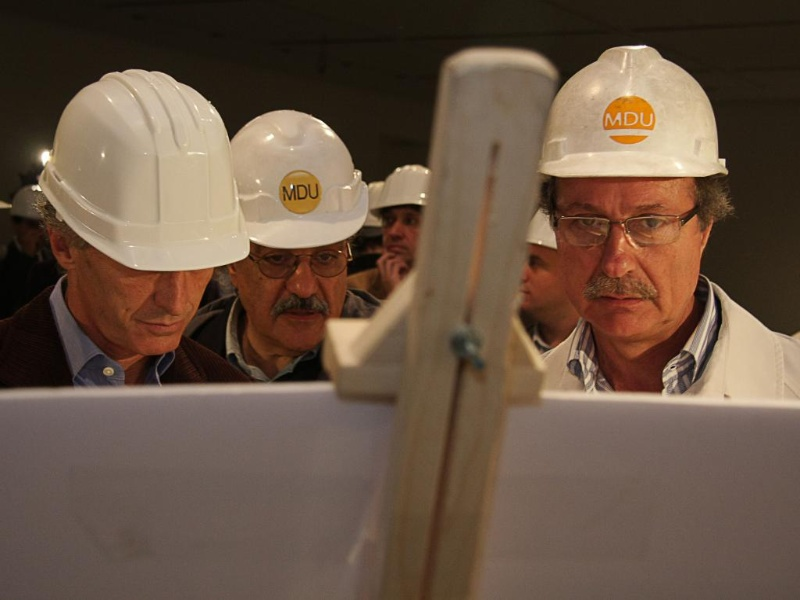Baret: (39, 69, 253, 272), (534, 46, 727, 176), (225, 109, 374, 246)
